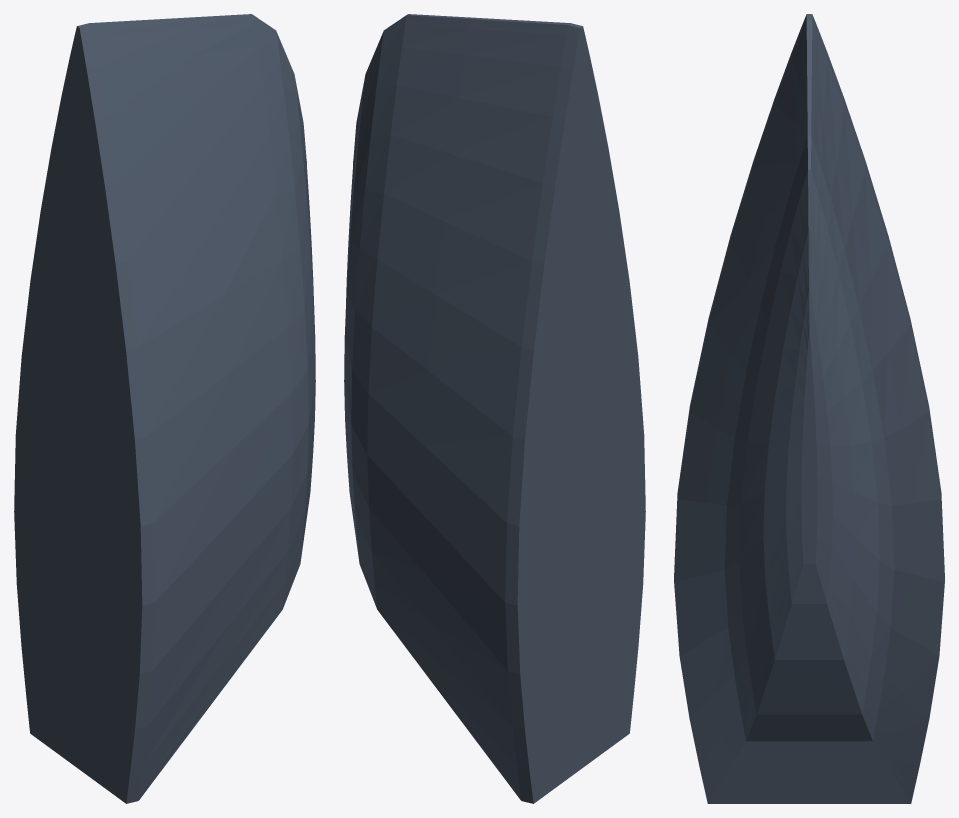
The model's file is SM_Nacelle_G.obj.
3 renders of one model, left to right at view 1: azimuth 30°, elevation 25°; view 2: azimuth 150°, elevation 25°; view 3: azimuth 270°, elevation 25°, orthographic. The views are drawn at different scales.
Bounding box in the file's own units: 5550 × 17218 × 5395.
